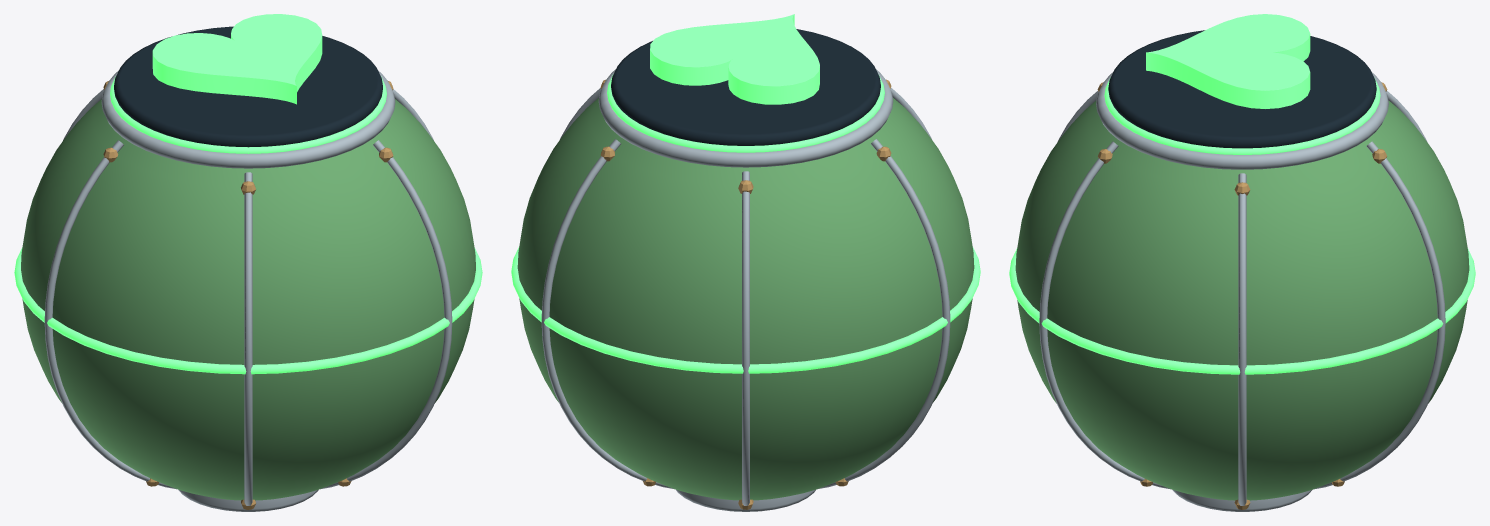
Rendered from pickup-extralife.glb.
The picture shows the model from 3 angles, left to right: view 1: azimuth 30°, elevation 25°; view 2: azimuth 150°, elevation 25°; view 3: azimuth 270°, elevation 25°; orthographic projection.
Parts seen in each view (by area): view 1: pickup extralife; view 2: pickup extralife; view 3: pickup extralife.
Boxes of the visible parts, box(x1,y1,x2,y2) form: pickup extralife: box(14, 14, 482, 511); pickup extralife: box(511, 14, 980, 511); pickup extralife: box(1009, 14, 1475, 511).
Bounding box in the file's own units: 2.06 × 2.12 × 2.05.
